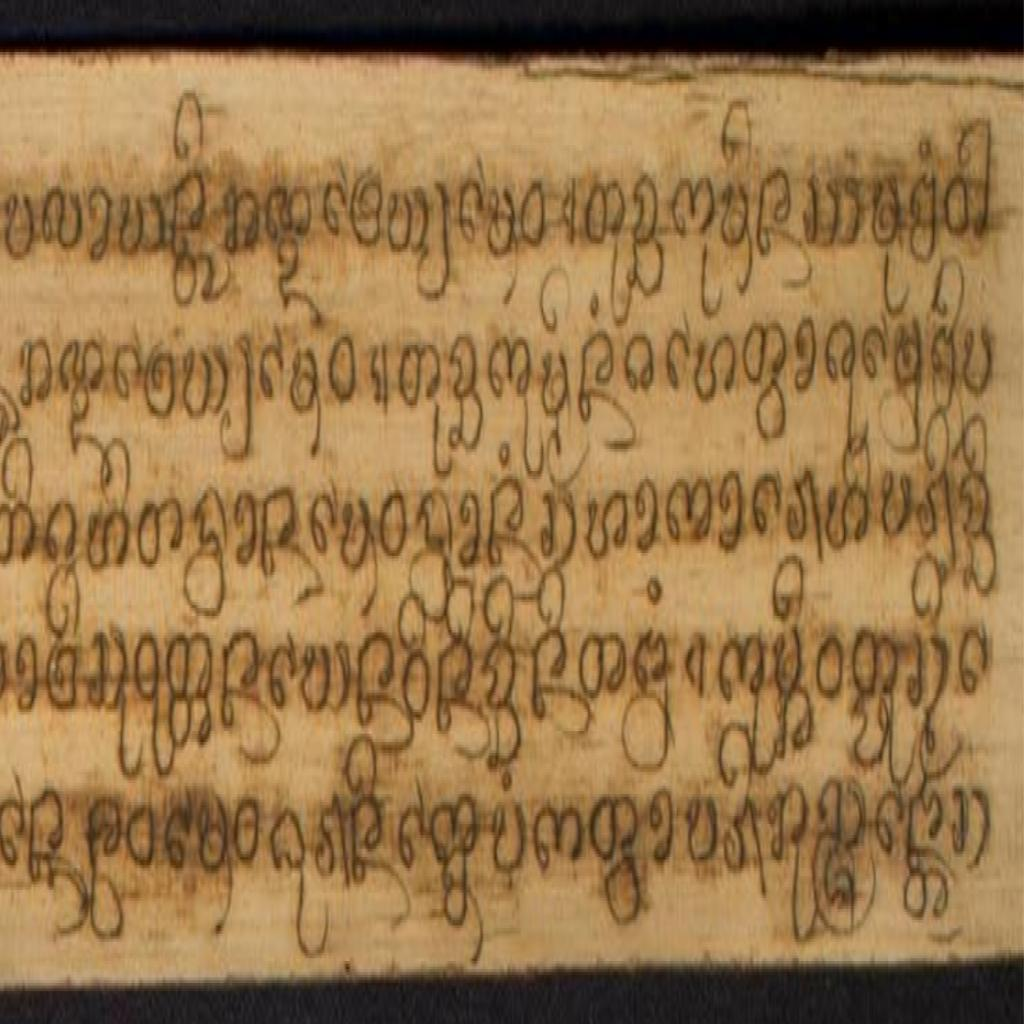LN039: (585, 480, 631, 572), (693, 326, 740, 414)
